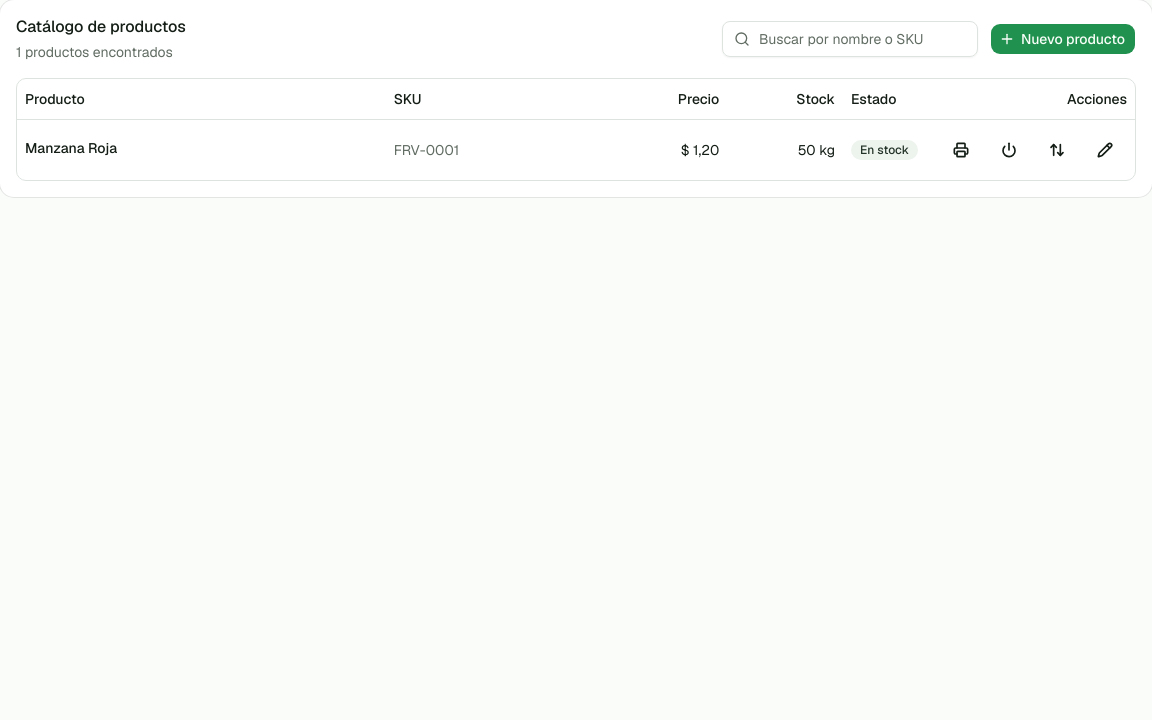
it: ProductsTable › calls the repository update when saving the edit dialog
The image size is (1152, 720).
Click the button named "Editar Manzana Roja" at (1105, 150), box [1083, 128, 1127, 172]
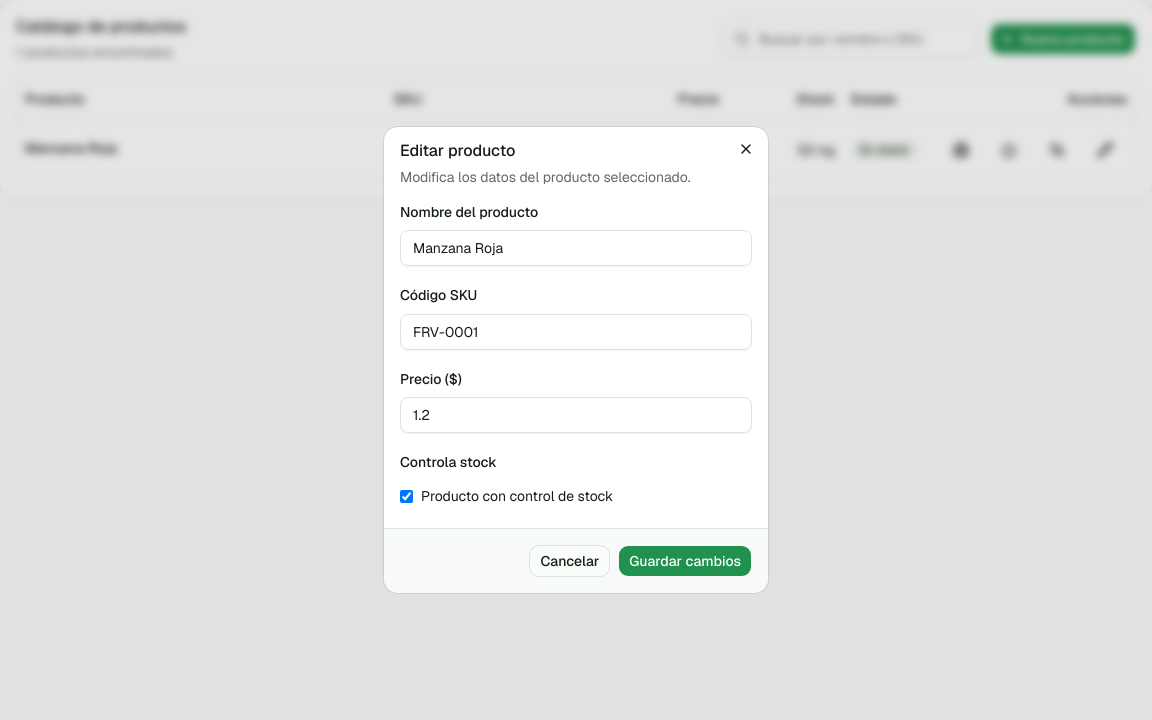
Now the dialog is shown, box [384, 127, 768, 593]
Replace the text in the field labelled "Nombre del producto" with "Manzana Verde" at (576, 248), box [400, 230, 752, 266]
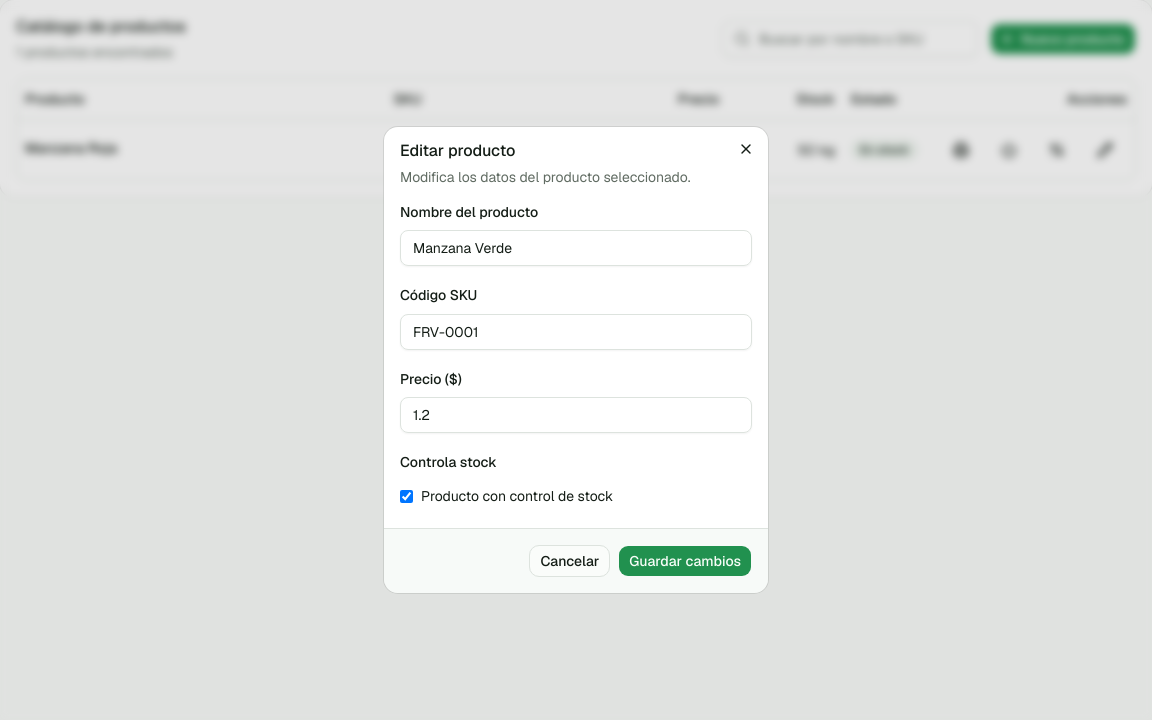
Replace the text in the field labelled "Código SKU" with "FRV-0002" at (576, 332), box [400, 314, 752, 350]
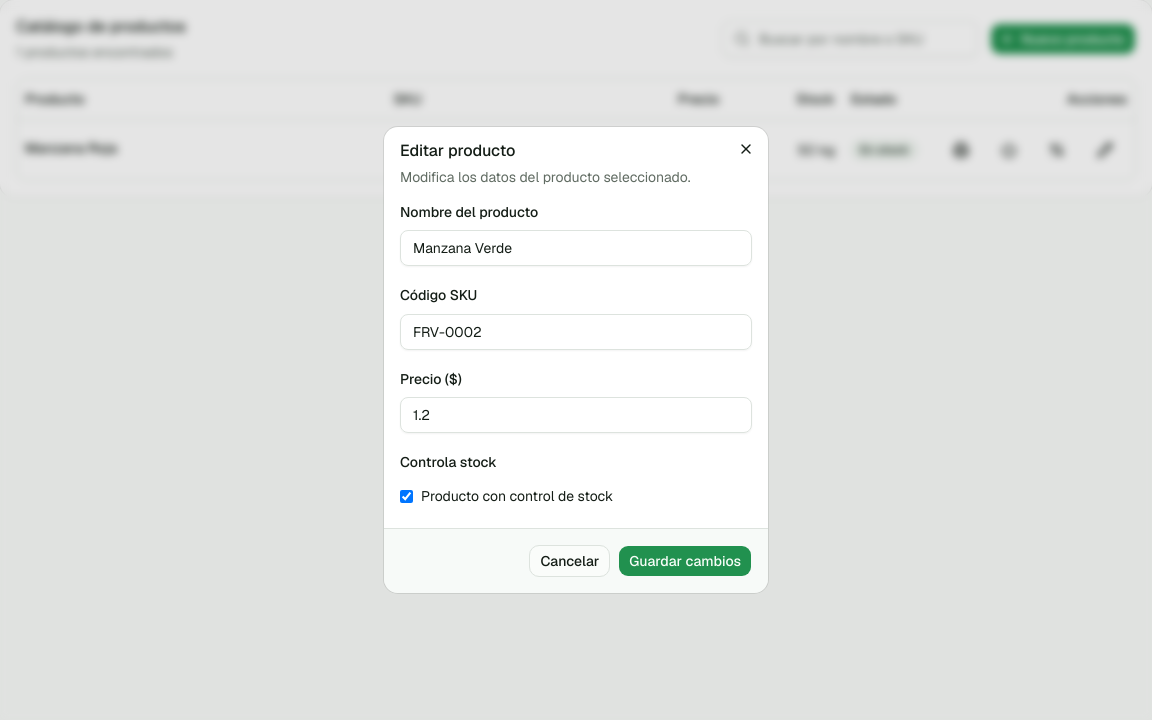
Replace the text in the number field labelled "Precio ($)" with "1.5" at (576, 415), box [400, 397, 752, 433]
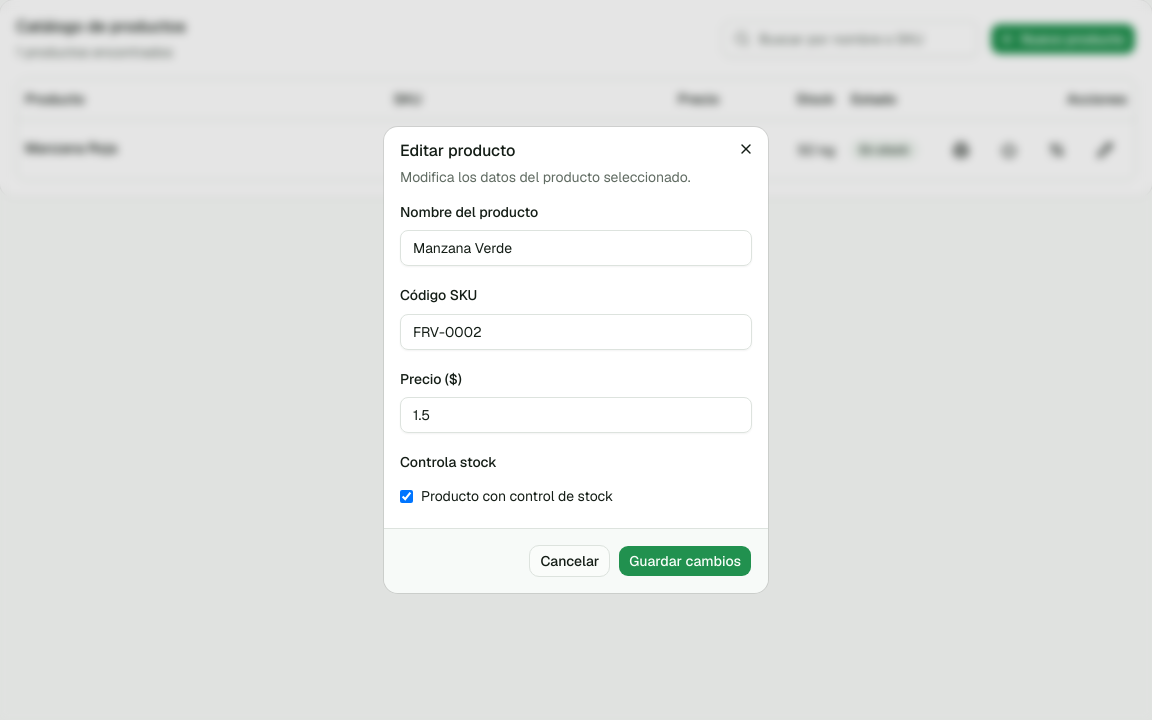
Click the button "Guardar cambios" at (685, 561), box [618, 545, 752, 577]
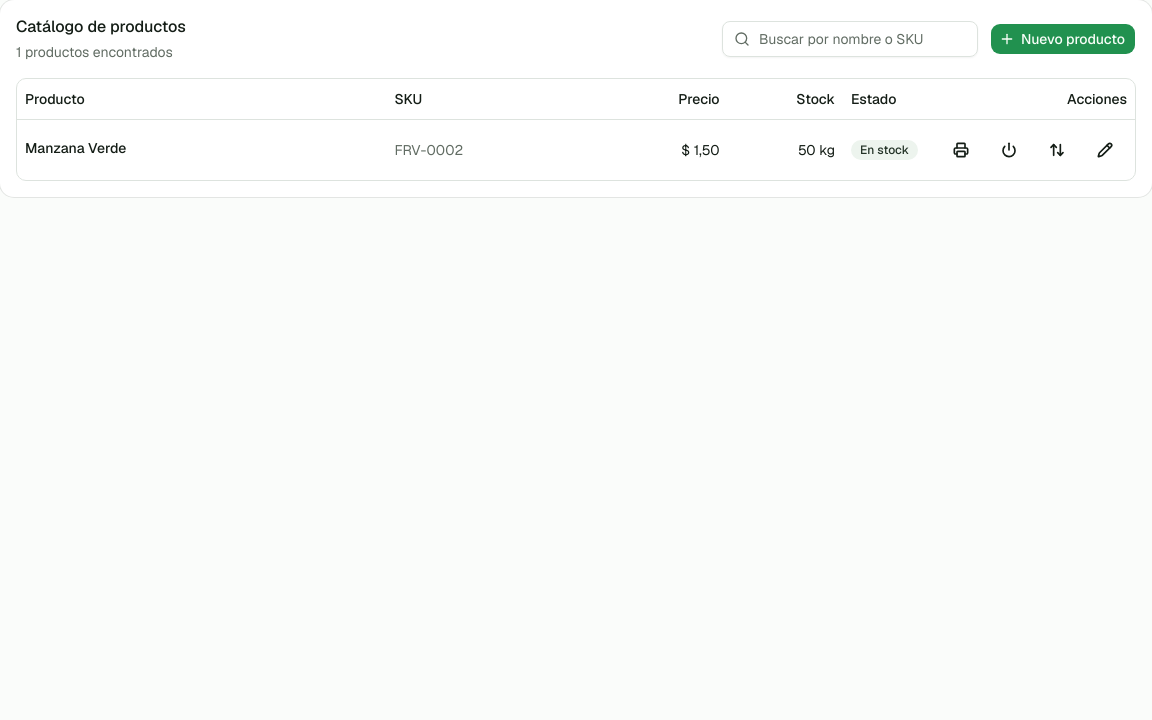
Now the dialog is gone
Now the text "Manzana Verde" is shown, box [25, 138, 126, 158]
Now the text "FRV-0002" is shown, box [386, 119, 594, 180]
